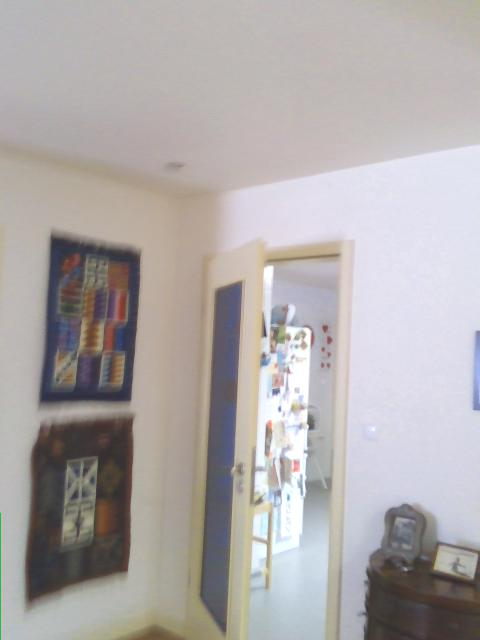semi_door: (179, 237, 354, 639)
